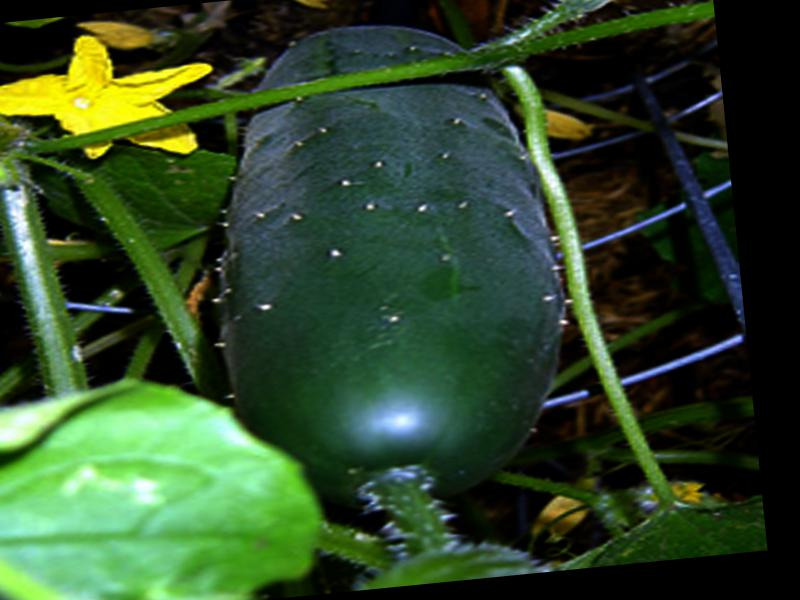Cucumber: (192, 12, 580, 528)
